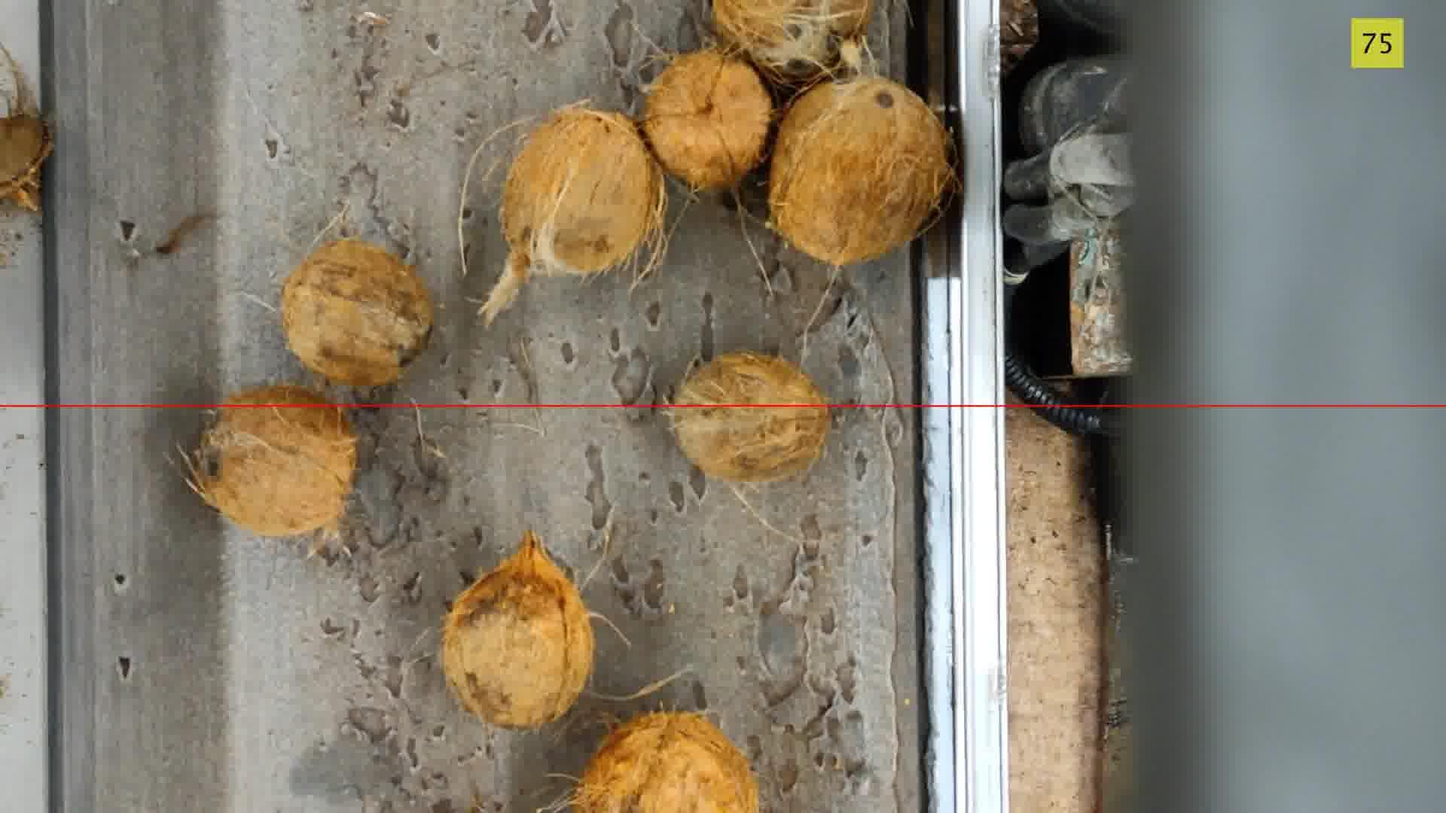Coconut: (479, 103, 667, 324), (767, 76, 959, 266), (441, 531, 596, 729), (272, 238, 451, 388), (187, 384, 358, 537), (669, 352, 831, 483), (641, 47, 777, 191), (568, 711, 759, 812), (711, 0, 874, 86), (0, 45, 54, 210)
